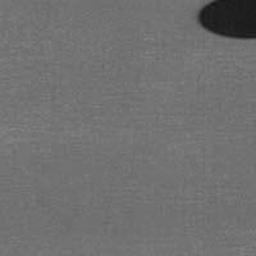Punching: (198, 0, 256, 40)
